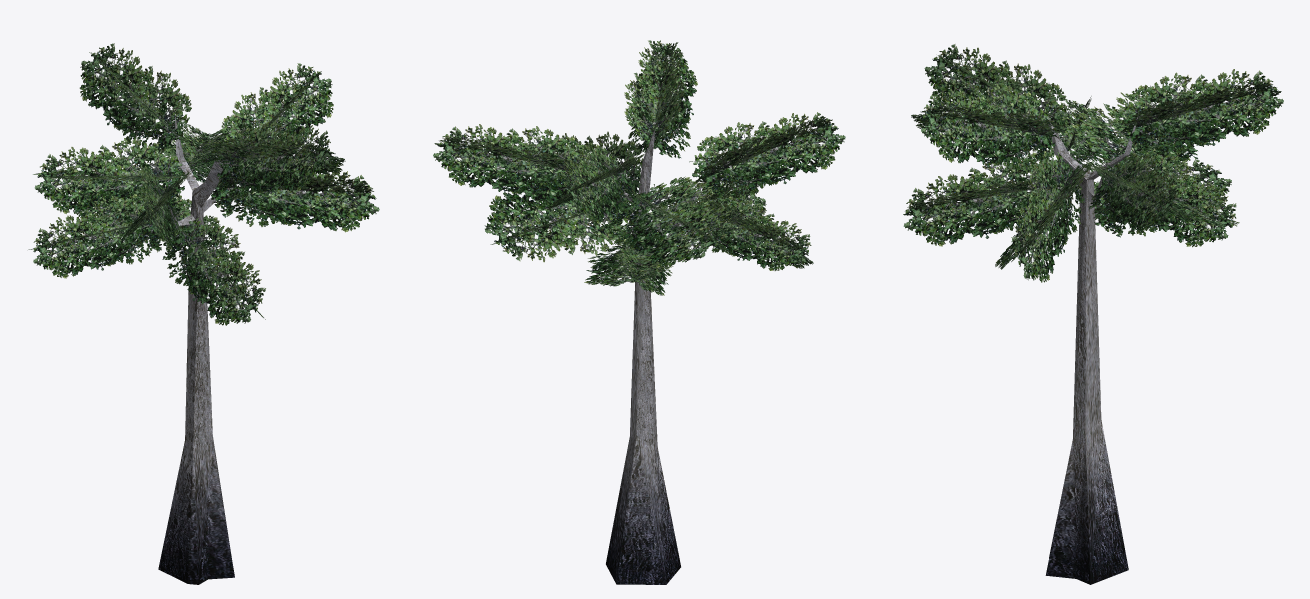
File: decd_massassi_a_l1.fbx
3 views of the same model, side by side, from view 1: azimuth 30°, elevation 25°; view 2: azimuth 150°, elevation 25°; view 3: azimuth 270°, elevation 25° (orthographic). The views are drawn at different scales.
Visible parts, largest first — view 1: mesh_node; view 2: mesh_node; view 3: mesh_node.
Boxes of the visible parts, x1,y1,x2,y2 form: mesh_node: [28, 43, 379, 584]; mesh_node: [433, 40, 845, 584]; mesh_node: [903, 44, 1283, 584].
Size of the model in its own units: 71.22 by 92.1 by 65.98.
